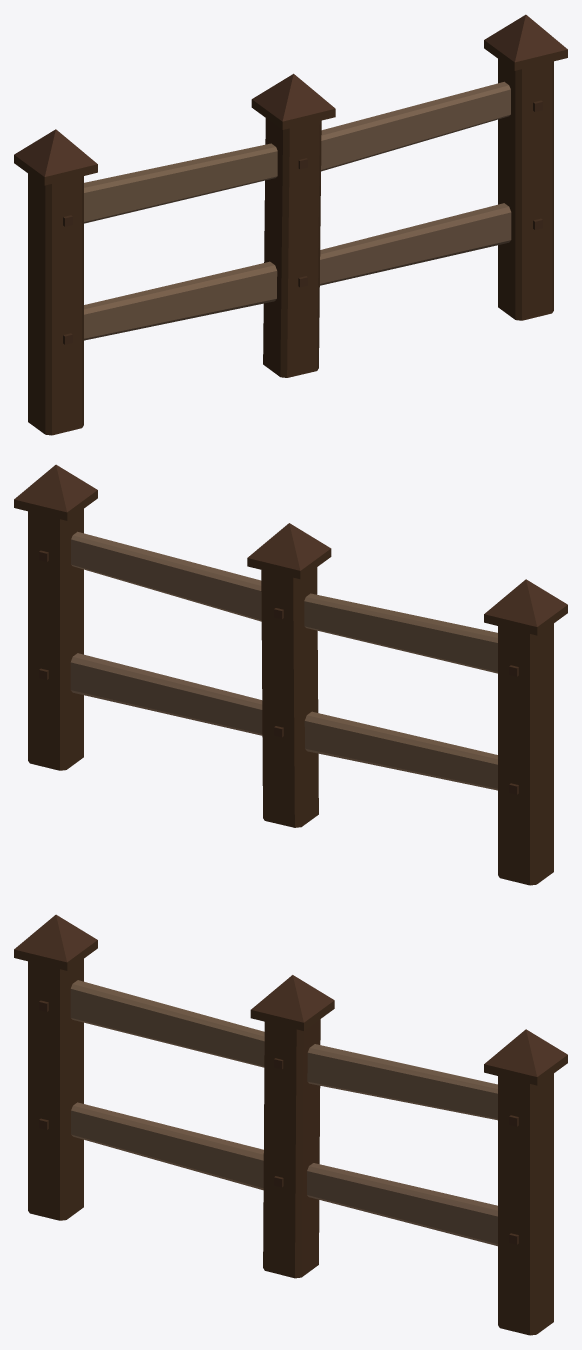
Rendered from prop_fence_wood_a.glb.
The picture shows the model from 3 angles, top to bottom: view 1: azimuth 30°, elevation 25°; view 2: azimuth 150°, elevation 25°; view 3: azimuth 330°, elevation 25°; orthographic projection.
Visible parts, largest first — view 1: prop_fence_wood_a_mesh; view 2: prop_fence_wood_a_mesh; view 3: prop_fence_wood_a_mesh.
Part boxes in pixels (x1,y1,x2,y2): prop_fence_wood_a_mesh: (14,14,567,435); prop_fence_wood_a_mesh: (14,464,567,885); prop_fence_wood_a_mesh: (14,914,567,1335).
Size of the model in its own units: 2.23 by 1.2 by 0.2302.
